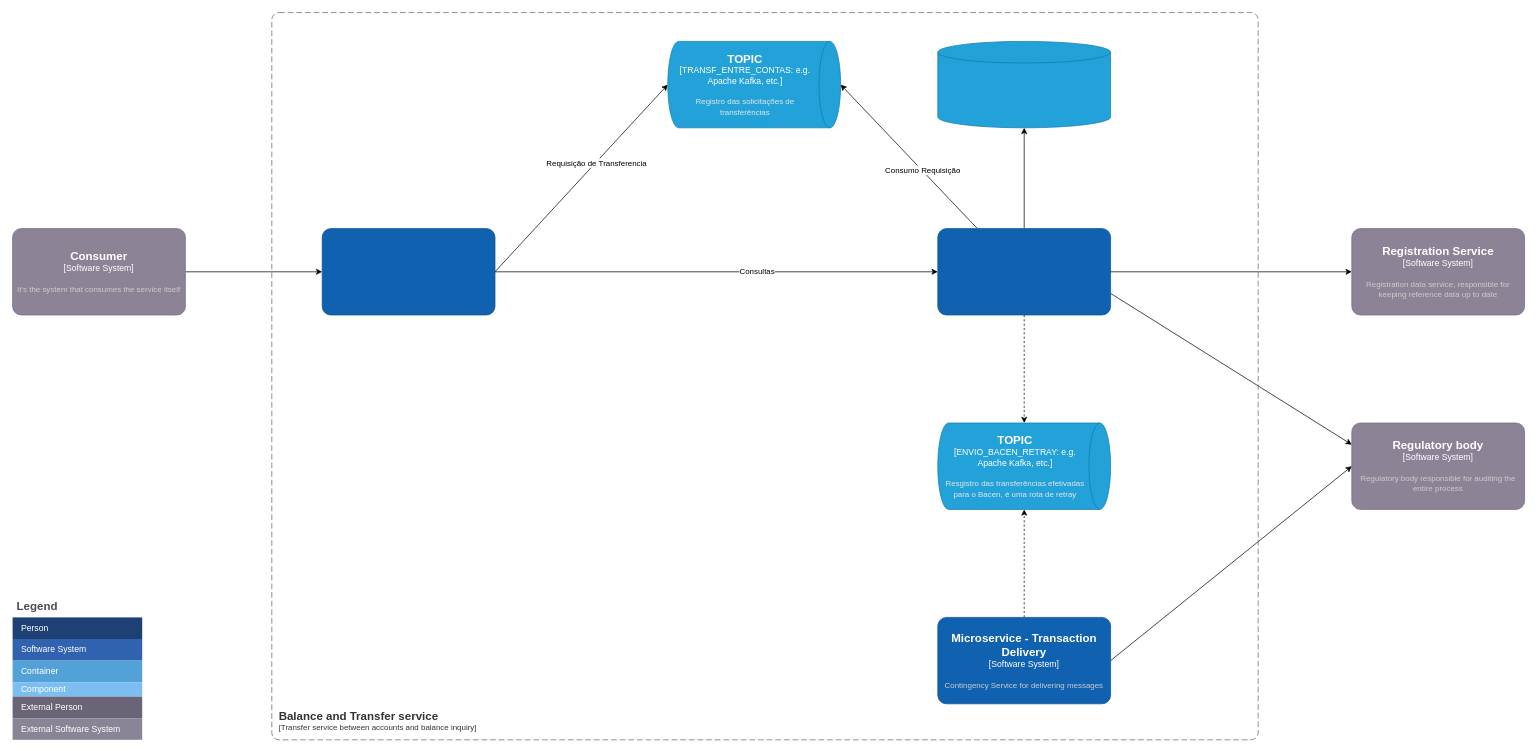
The diagram is 1537 pixels wide and 752 high, and some of its shapes have lost their labels. Each missing label, with the box of its shape:
API - Account [API REST] Current Account Rest API: (321, 228, 495, 315)
Database [Container: e.g. RDBMS] Account and transfer registration database: (937, 41, 1111, 128)
Microservice - Account [Software System] Current Account microservice: (937, 228, 1111, 315)
